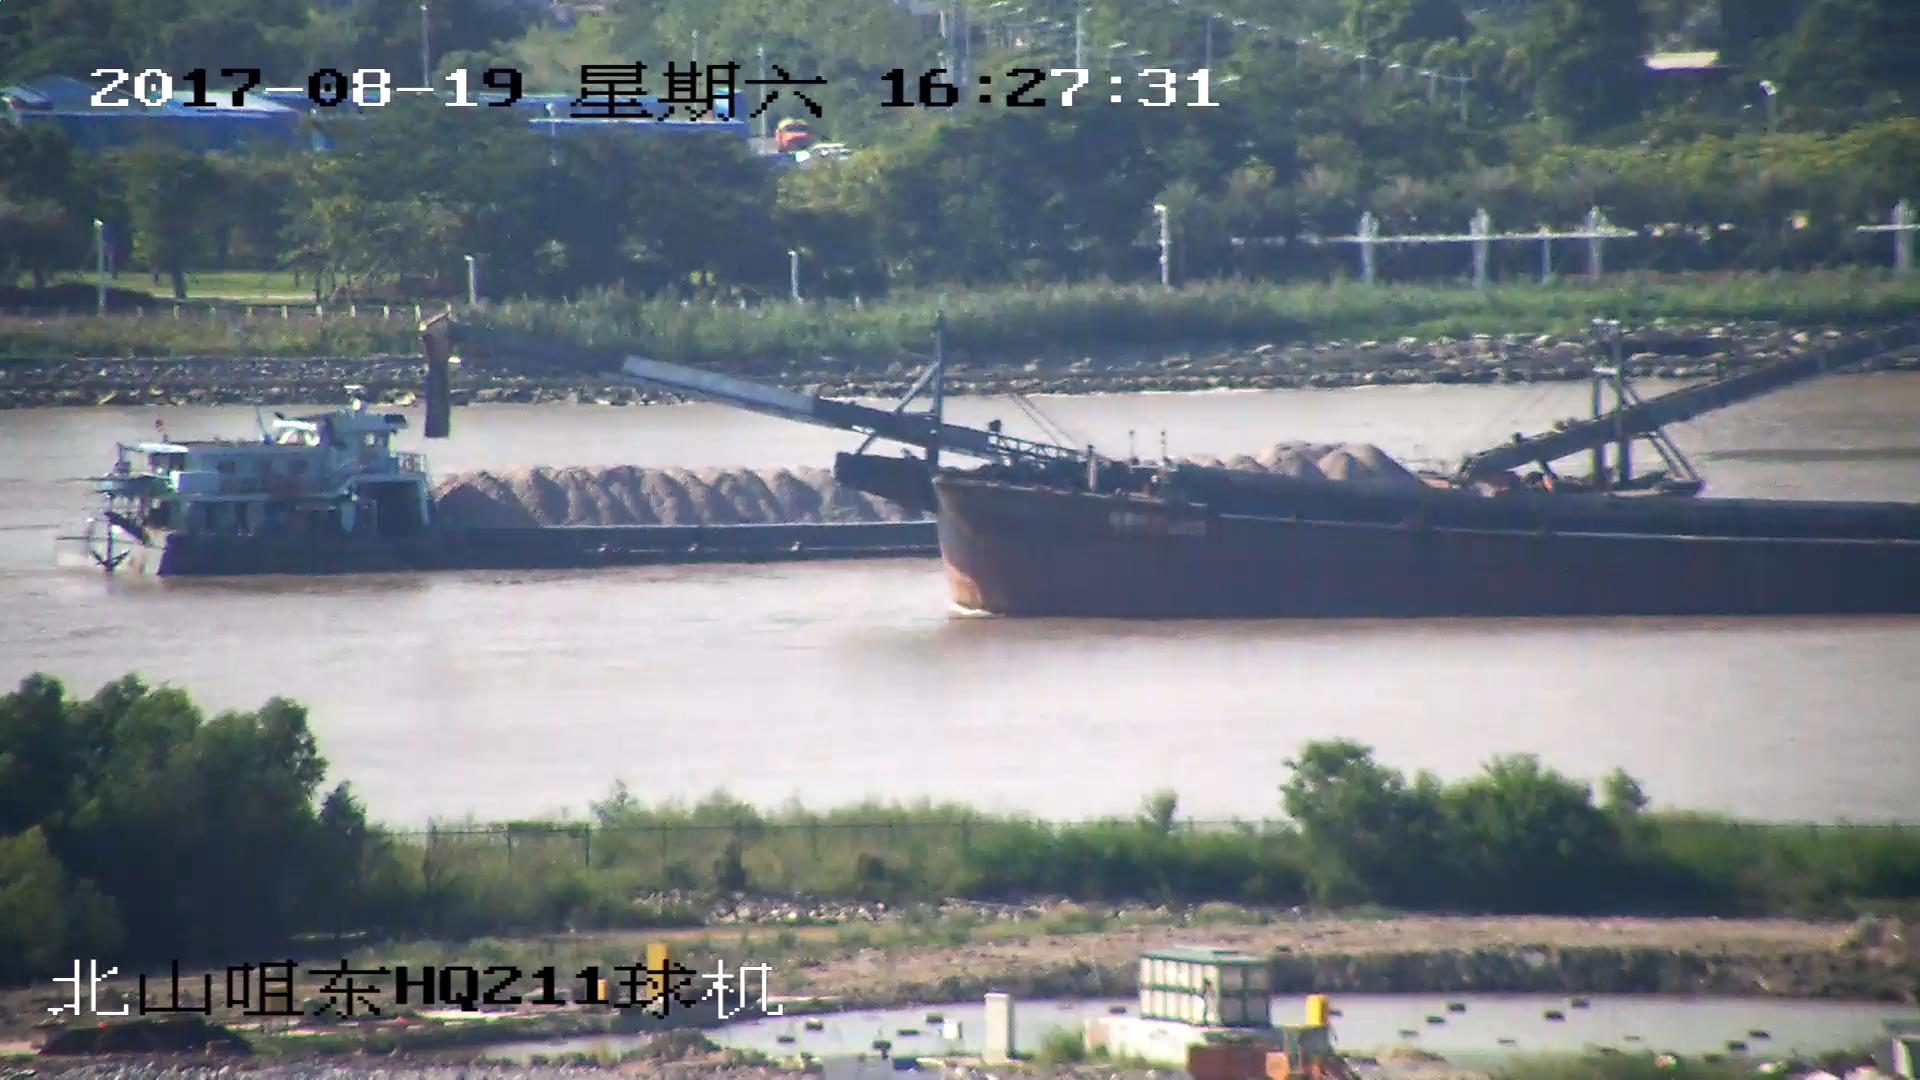bulk cargo carrier: (422, 323, 1920, 621)
ore carrier: (88, 323, 1920, 581)
